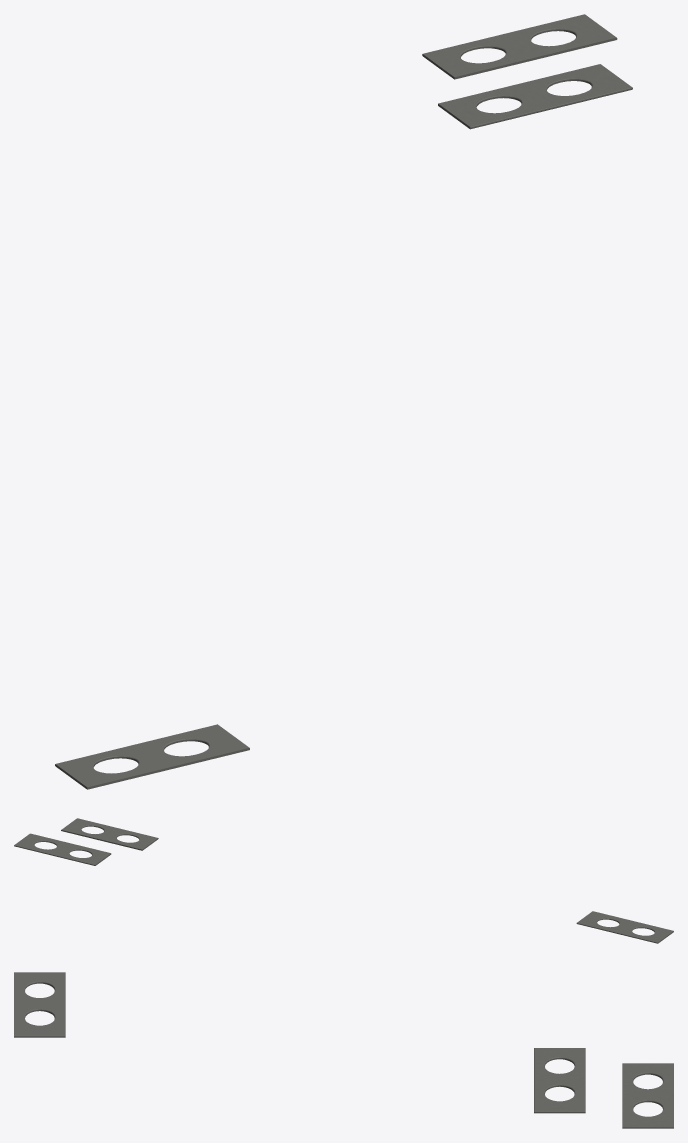
Rendered from Countertops_Quartz_Expo_Gray.glb.
The picture shows the model from 3 angles, top to bottom: view 1: azimuth 30°, elevation 25°; view 2: azimuth 150°, elevation 25°; view 3: azimuth 270°, elevation 25°; orthographic projection. The views are drawn at different scales.
Visible parts, largest first — view 1: Bathroom_Counter_tops_Quartz_Expo_Gray_2345; view 2: Bathroom_Counter_tops_Quartz_Expo_Gray_2345; view 3: Bathroom_Counter_tops_Quartz_Expo_Gray_2345.
Boxes of the visible parts, box(x1,y1,x2,y2) form: Bathroom_Counter_tops_Quartz_Expo_Gray_2345: box(55, 14, 632, 789); Bathroom_Counter_tops_Quartz_Expo_Gray_2345: box(14, 818, 673, 943); Bathroom_Counter_tops_Quartz_Expo_Gray_2345: box(14, 972, 673, 1128).
Size of the model in its own units: 16.21 by 4.31 by 12.7.
1 material, 1 textured.
